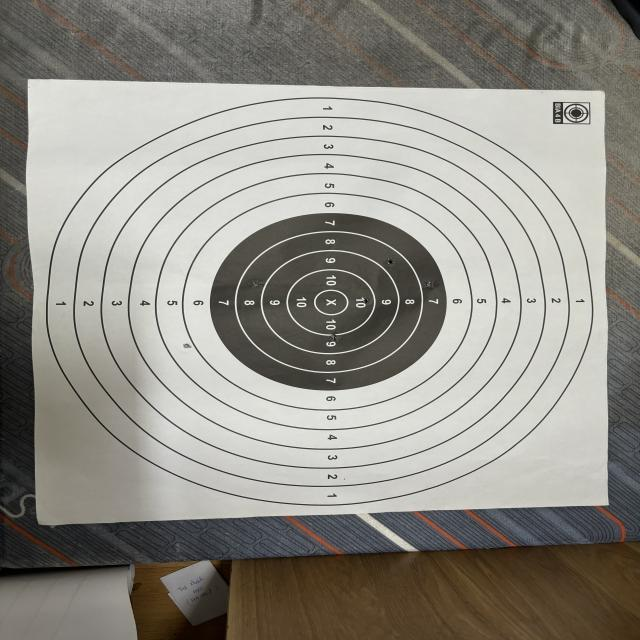bullet: (362, 298, 370, 306), (331, 333, 337, 341), (184, 344, 192, 348), (428, 280, 432, 288), (256, 280, 260, 288), (388, 260, 392, 264)
target: (25, 84, 608, 520)
